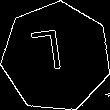L_S: (37, 30, 75, 84)
